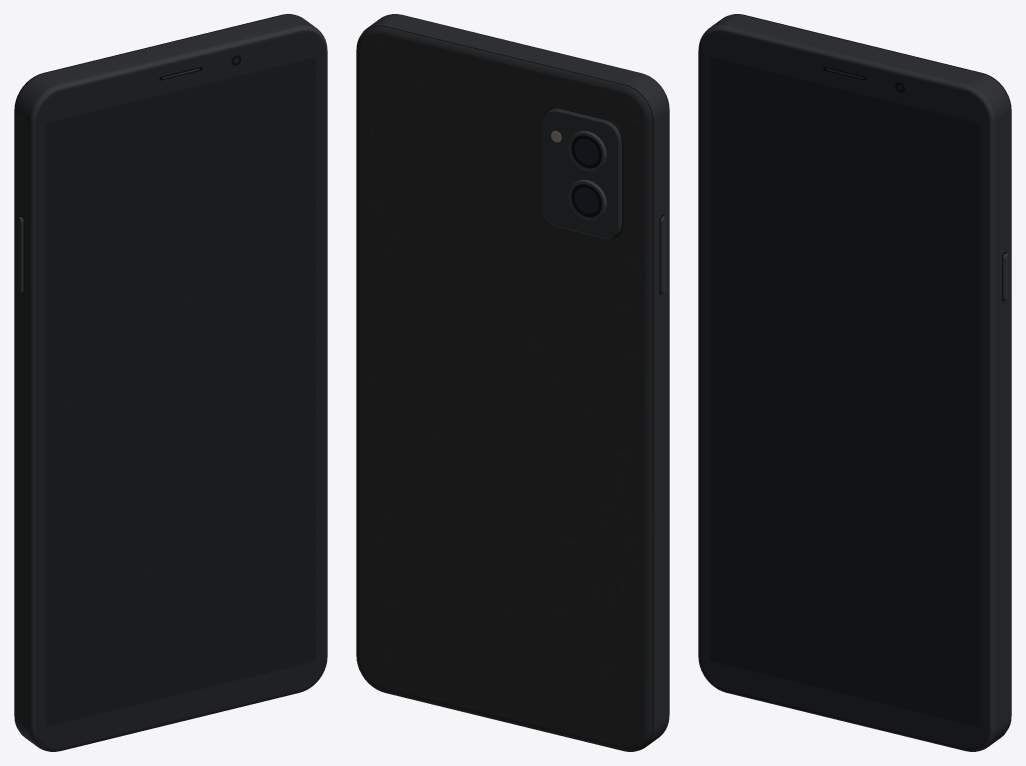
The model's file is phone.glb.
The picture shows the model from 3 angles, left to right: view 1: azimuth 30°, elevation 25°; view 2: azimuth 150°, elevation 25°; view 3: azimuth 330°, elevation 25°; orthographic projection.
Parts seen in each view (by area): view 1: Screen, Handset; view 2: Handset, Rear camera island, Volume button; view 3: Screen, Handset.
Boxes of the visible parts, <box> form: Screen: <box>46,57,316,726</box>; Handset: <box>14,14,327,751</box>; Handset: <box>356,14,669,751</box>; Rear camera island: <box>542,108,621,238</box>; Volume button: <box>660,216,666,293</box>; Screen: <box>709,57,979,726</box>; Handset: <box>698,14,1011,751</box>.
Size of the model in its own units: 0.0713 by 0.1501 by 0.0102.
Materials: 12 (2 with a texture image).
